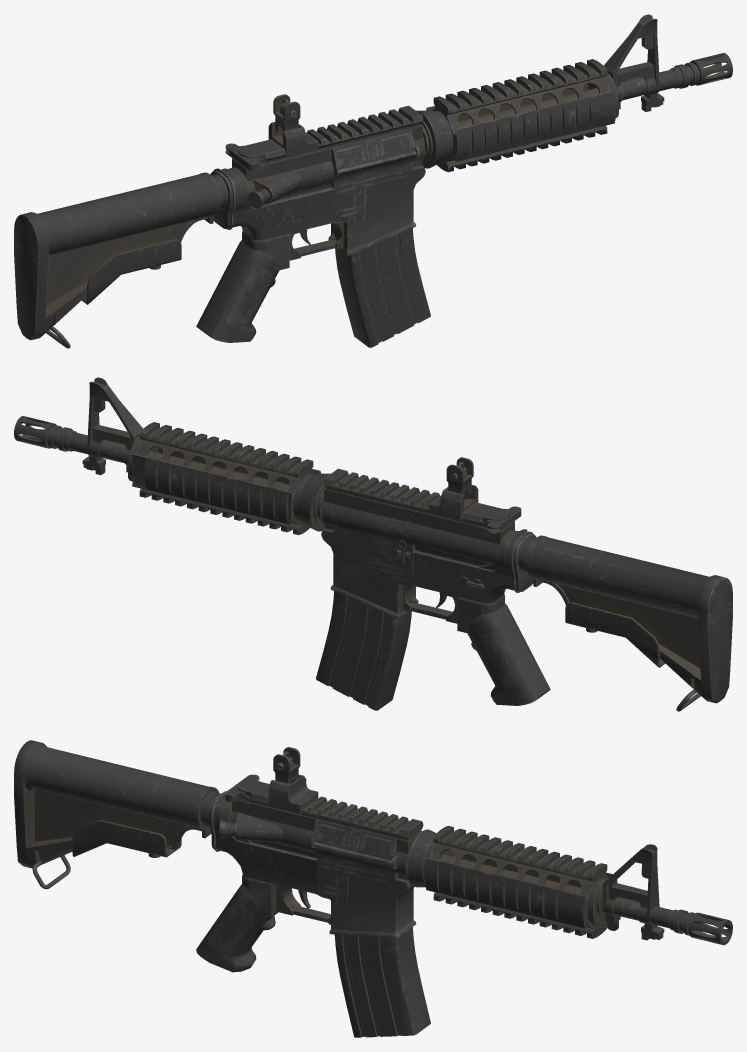
3 views of the same model, one above another, from view 1: azimuth 30°, elevation 25°; view 2: azimuth 150°, elevation 25°; view 3: azimuth 330°, elevation 25° (orthographic).
Visible parts, largest first — view 1: Main Body, Shoulder Grip, Muzzle Holder Attachment holder, Magazine, Muzzle, Top attachment Holder, Grip Support, Muzzle Holder _Gun_0, Stabalizer, Aiming module iron site, Tigger holder, Aiming Module back (+1 smaller); view 2: Main Body, Shoulder Grip, Muzzle Holder Attachment holder, Magazine, Muzzle, Top attachment Holder, Grip Support, Muzzle Holder _Gun_0, Aiming module iron site, Tigger holder, Aiming Module back, Barrel1; view 3: Main Body, Shoulder Grip, Muzzle Holder Attachment holder, Magazine, Muzzle, Top attachment Holder, Grip Support, Muzzle Holder _Gun_0, Stabalizer, Aiming module iron site, Tigger holder, Aiming Module back (+1 smaller).
Boxes of the visible parts, box(x1,y1,x2,y2) form: Main Body: box(196, 73, 618, 342); Shoulder Grip: box(14, 172, 228, 340); Muzzle Holder Attachment holder: box(426, 59, 616, 172); Magazine: box(335, 228, 430, 347); Muzzle: box(603, 14, 732, 117); Top attachment Holder: box(238, 105, 423, 160); Grip Support: box(81, 239, 181, 304); Muzzle Holder _Gun_0: box(433, 77, 610, 162); Stabalizer: box(248, 173, 302, 208); Aiming module iron site: box(268, 122, 318, 158); Tigger holder: box(288, 218, 347, 260); Aiming Module back: box(273, 94, 300, 136); Main Body: box(128, 436, 550, 705); Shoulder Grip: box(518, 535, 732, 703); Muzzle Holder Attachment holder: box(132, 422, 320, 535); Magazine: box(316, 591, 411, 710); Muzzle: box(14, 377, 143, 481); Top attachment Holder: box(323, 468, 508, 523); Grip Support: box(565, 602, 664, 667); Muzzle Holder _Gun_0: box(136, 440, 313, 525); Aiming module iron site: box(428, 485, 478, 521); Tigger holder: box(399, 581, 458, 623); Aiming Module back: box(446, 457, 473, 499); Barrel1: box(148, 450, 289, 490); Main Body: box(196, 790, 607, 972); Shoulder Grip: box(14, 740, 220, 868); Muzzle Holder Attachment holder: box(424, 826, 612, 938); Magazine: box(334, 927, 430, 1037); Muzzle: box(602, 844, 732, 945); Top attachment Holder: box(238, 780, 423, 838); Grip Support: box(72, 820, 181, 857); Muzzle Holder _Gun_0: box(430, 843, 608, 929); Stabalizer: box(219, 812, 283, 842); Aiming module iron site: box(268, 774, 318, 814); Tigger holder: box(271, 881, 330, 924); Aiming Module back: box(273, 747, 300, 784).
Bounding box in the file's own units: 4.18 × 1.49 × 0.3915.
Materials: 1 (1 with a texture image).
